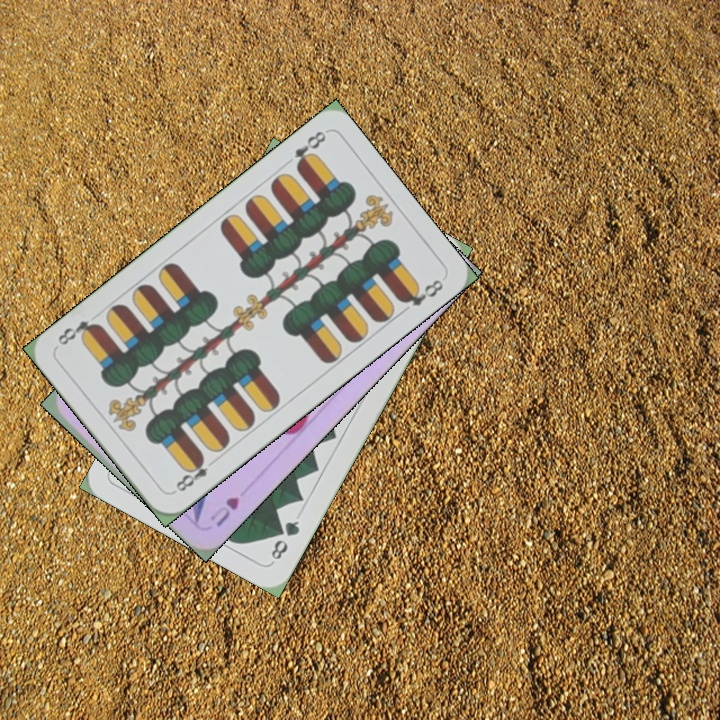E8: (169, 452, 219, 496), (289, 127, 329, 173)
G8: (267, 516, 303, 564)
HU: (206, 492, 242, 530)
